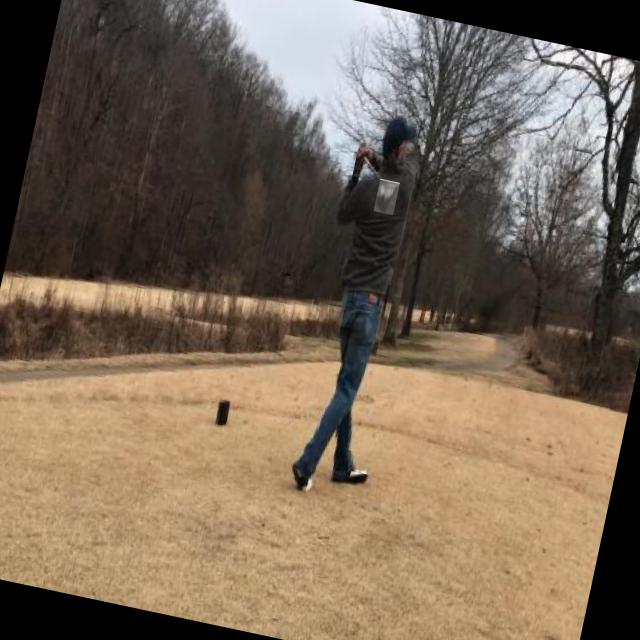club head: (373, 178, 399, 214)
